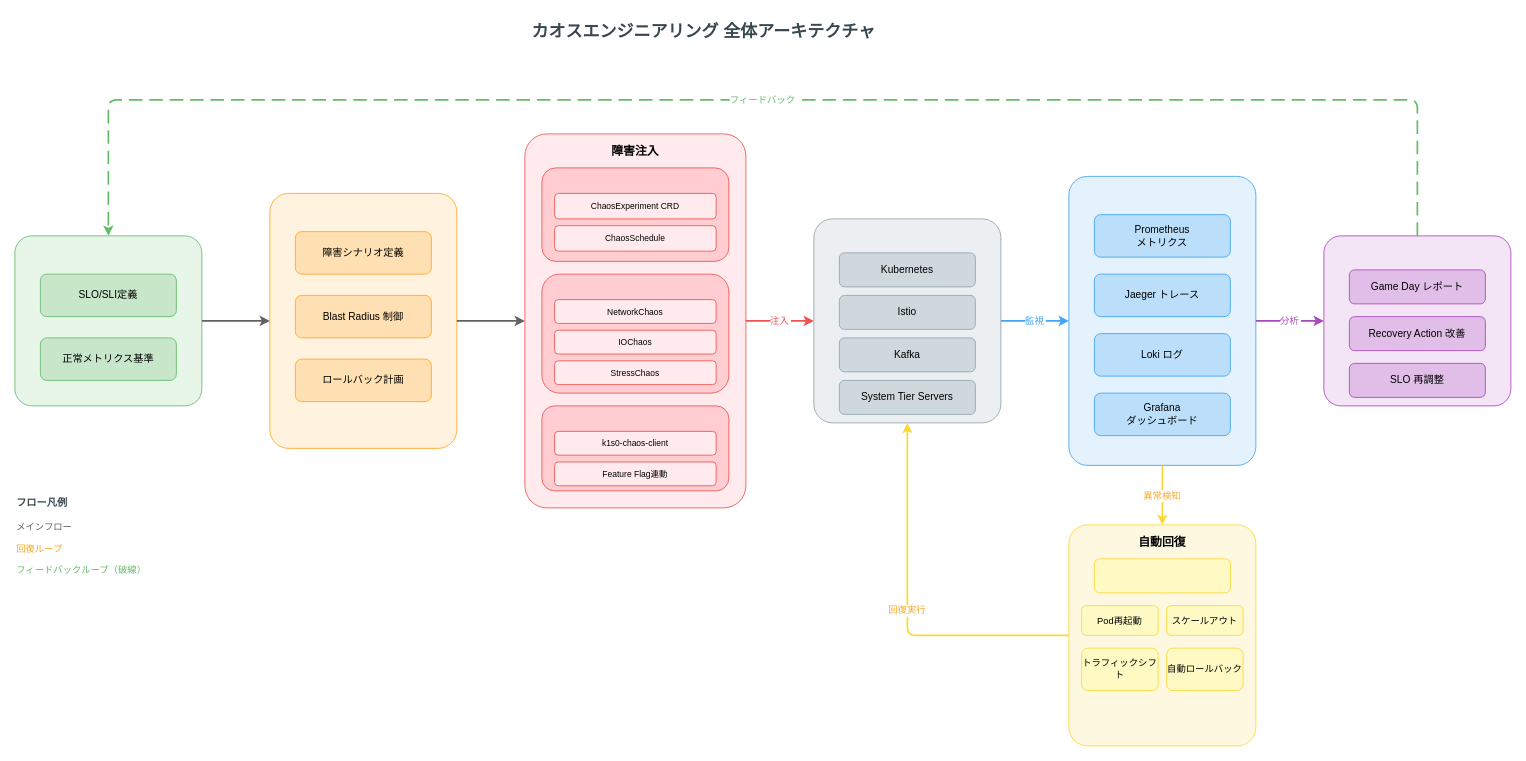
Image size: 1526x761. Some labels were removed from this diagram. Each missing label, with the box of its shape:
Application Chaos: (541, 405, 729, 491)
Chaos Mesh: (541, 273, 729, 393)
k1s0 Platform: (813, 218, 1001, 423)
Litmus ChaosCenter: (541, 167, 729, 261)
Recovery Operator: (1094, 558, 1230, 593)
Steady State定義: (14, 235, 202, 406)
仮説設定: (269, 193, 457, 448)
学習・改善: (1323, 235, 1511, 406)
観測・分析: (1068, 176, 1256, 465)
